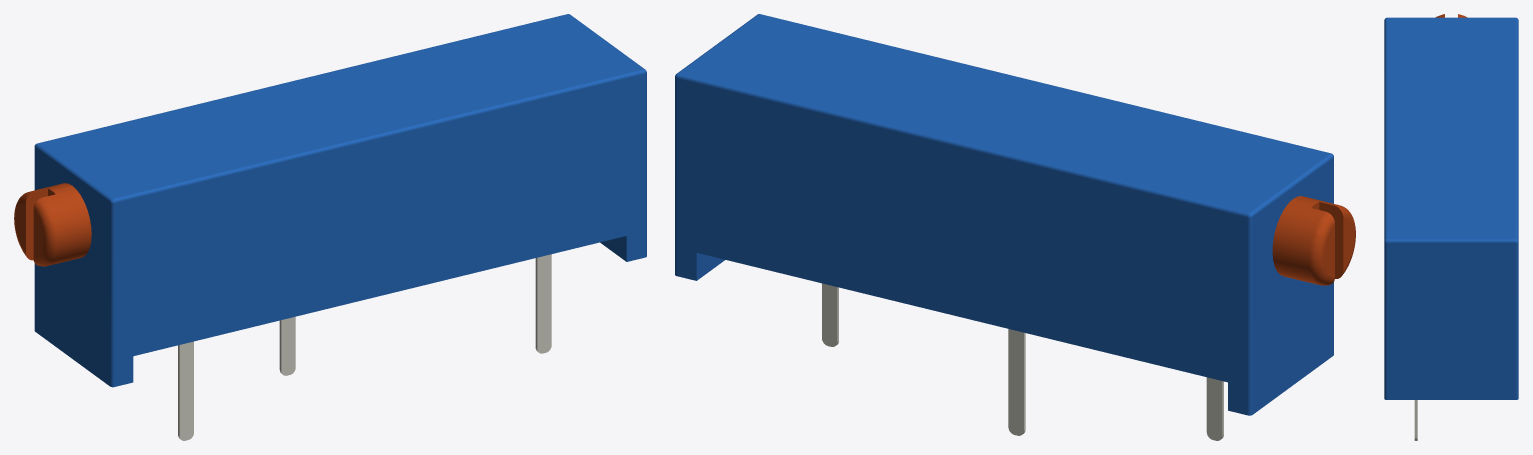
The model's file is kc-potentiometer_bourns_3006p_horizontal.glb.
The picture shows the model from 3 angles, left to right: view 1: azimuth 30°, elevation 25°; view 2: azimuth 150°, elevation 25°; view 3: azimuth 270°, elevation 25°; orthographic projection. The views are drawn at different scales.
Visible parts, largest first — view 1: 0_0.16666666666666666_0.5_0, 0.4166666666666667_0.08333333333333333_0_0, 0.6666666666666666_0.6666666666666666_0.5833333333333334_0.8; view 2: 0_0.16666666666666666_0.5_0, 0.4166666666666667_0.08333333333333333_0_0, 0.6666666666666666_0.6666666666666666_0.5833333333333334_0.8; view 3: 0_0.16666666666666666_0.5_0, 0.6666666666666666_0.6666666666666666_0.5833333333333334_0.8.
Part boxes in pixels (left/top/right/bottom): 0_0.16666666666666666_0.5_0: left=34, top=14, right=646, bottom=387; 0.4166666666666667_0.08333333333333333_0_0: left=14, top=183, right=91, bottom=266; 0.6666666666666666_0.6666666666666666_0.5833333333333334_0.8: left=178, top=254, right=551, bottom=440; 0_0.16666666666666666_0.5_0: left=675, top=14, right=1333, bottom=415; 0.4166666666666667_0.08333333333333333_0_0: left=1272, top=196, right=1355, bottom=285; 0.6666666666666666_0.6666666666666666_0.5833333333333334_0.8: left=822, top=283, right=1223, bottom=440; 0_0.16666666666666666_0.5_0: left=1384, top=17, right=1518, bottom=399; 0.6666666666666666_0.6666666666666666_0.5833333333333334_0.8: left=1414, top=400, right=1417, bottom=440.
Bounding box in the file's own units: 2.06 × 0.935 × 0.4831.
